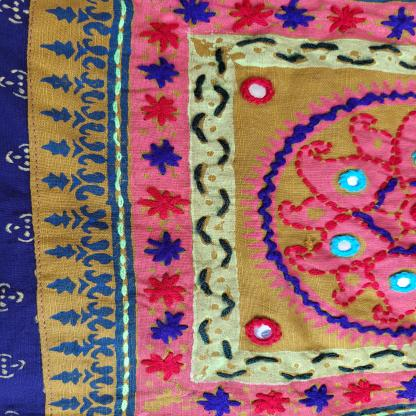spot: (309, 74, 320, 81)
